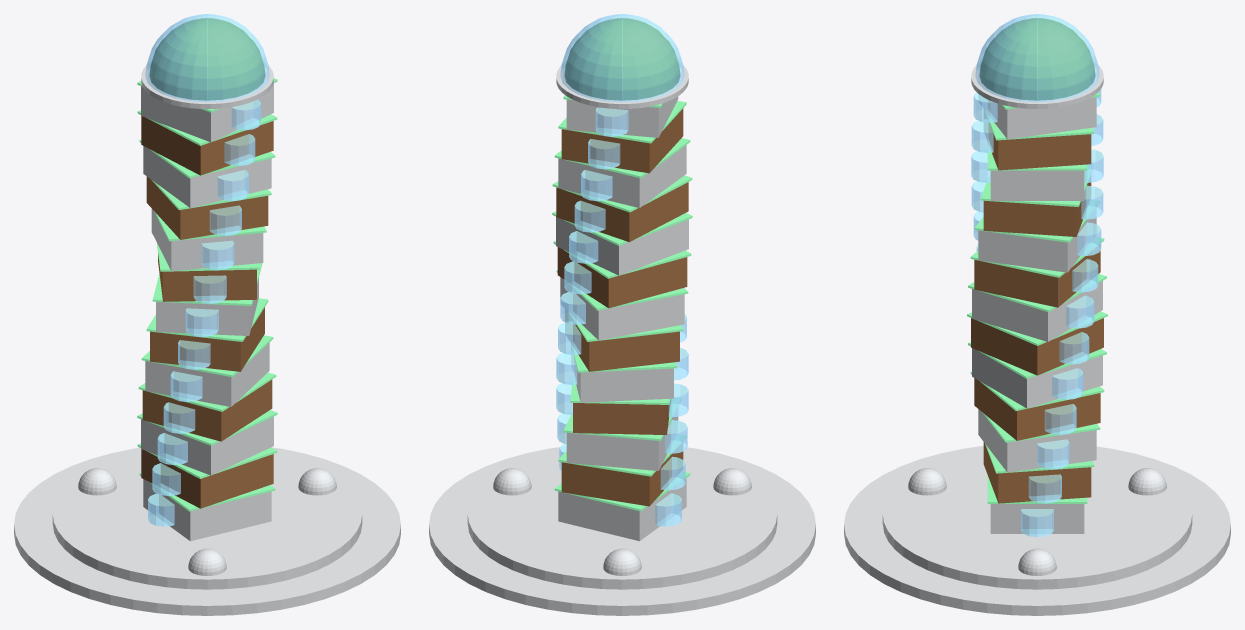
File: shaddai_landmark_hearth_v01.glb
3 renders of one model, left to right at view 1: azimuth 30°, elevation 25°; view 2: azimuth 150°, elevation 25°; view 3: azimuth 270°, elevation 25°, orthographic.
Parts seen in each view (by area): view 1: landmark_hearth; view 2: landmark_hearth; view 3: landmark_hearth.
Part boxes in pixels (x1=…): landmark_hearth: x1=14, y1=14, x2=400, y2=615; landmark_hearth: x1=429, y1=14, x2=815, y2=615; landmark_hearth: x1=844, y1=14, x2=1230, y2=615.
Bounding box in the file's own units: 140 × 205 × 140.
